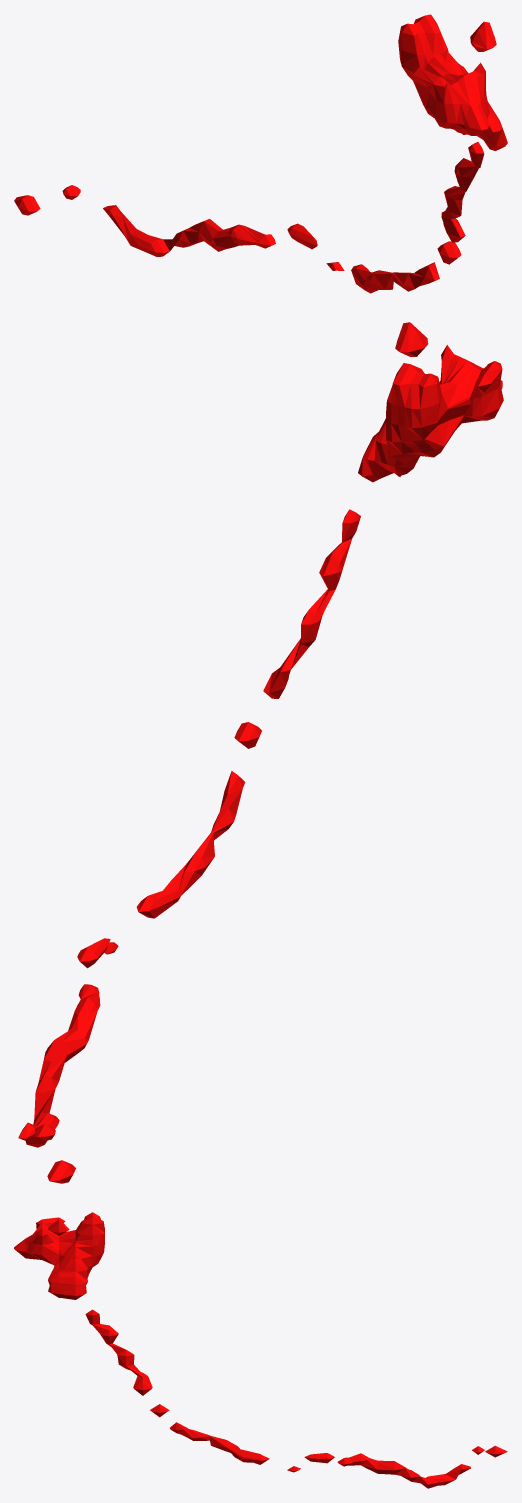
File: mukF_coarse.dae
3 views of the same model, one above another, from view 1: azimuth 30°, elevation 25°; view 2: azimuth 150°, elevation 25°; view 3: azimuth 270°, elevation 25° (orthographic). The views are drawn at different scales.
Visible parts, largest first — view 1: mukF; view 2: mukF; view 3: mukF.
Boxes of the visible parts, <box> form: mukF: <box>14,14,507,293</box>; mukF: <box>18,322,503,1183</box>; mukF: <box>14,1212,507,1488</box>.
Bounding box in the file's own units: 85.8 × 258 × 428.
